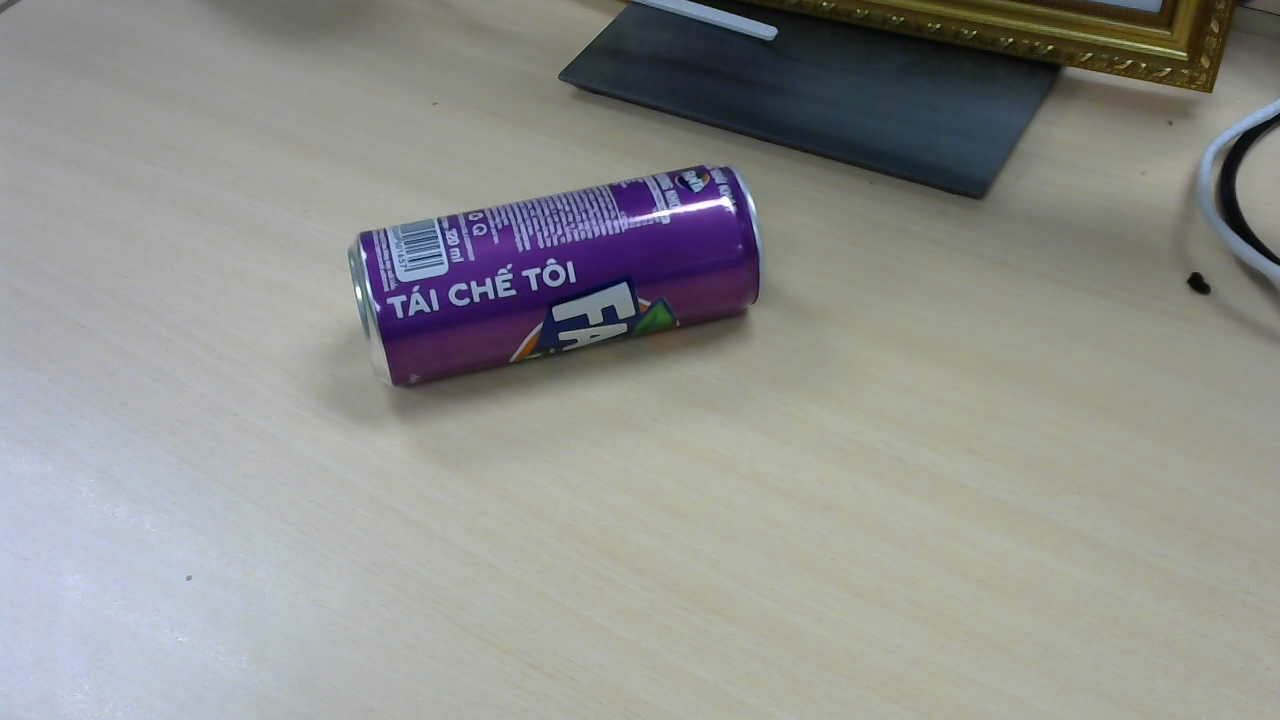Fanta: (356, 162, 770, 398)
